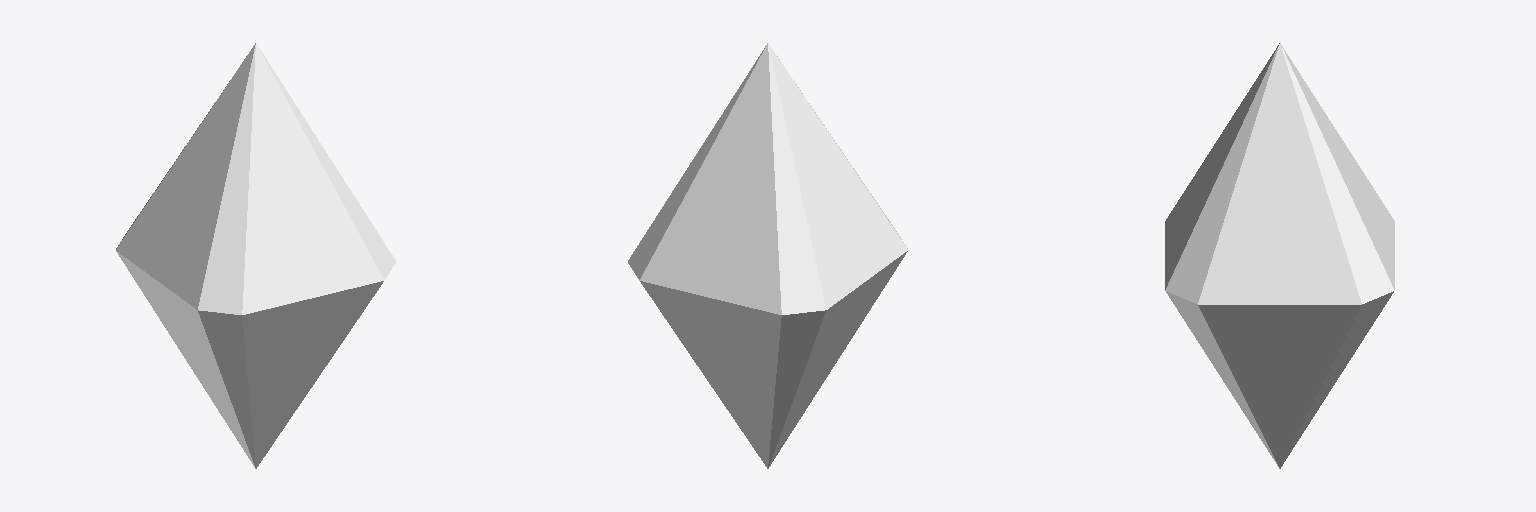
The model's file is Flag.obj.
The picture shows the model from 3 angles: view 1: azimuth 30°, elevation 25°; view 2: azimuth 150°, elevation 25°; view 3: azimuth 270°, elevation 25°; orthographic projection.
Parts seen in each view (by area): view 1: Hedra001; view 2: Hedra001; view 3: Hedra001.
Part boxes in pixels (x1,y1,x2,y2): Hedra001: (116, 43, 395, 468); Hedra001: (628, 43, 907, 468); Hedra001: (1165, 43, 1394, 468).
Bounding box in the file's own units: 81.32 × 167 × 81.32.